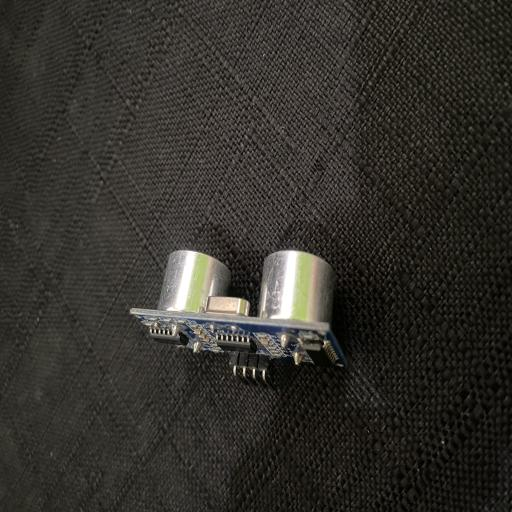Ultrasonic Sensor: (130, 249, 349, 386)
